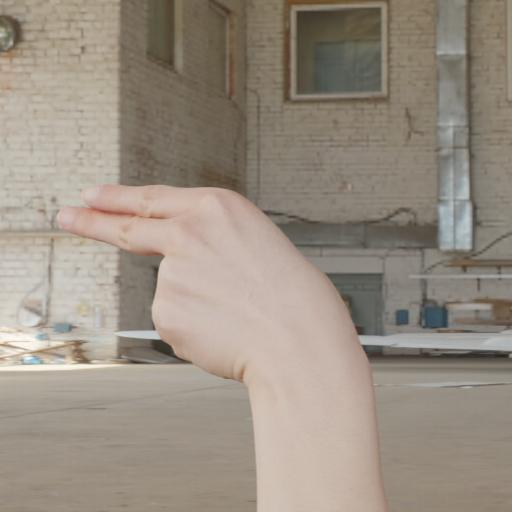H: (37, 171, 408, 512)
